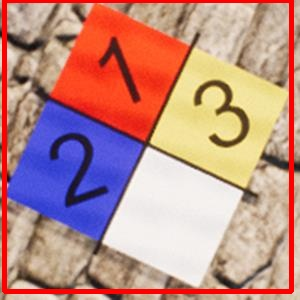nfpa: (4, 0, 291, 291)
